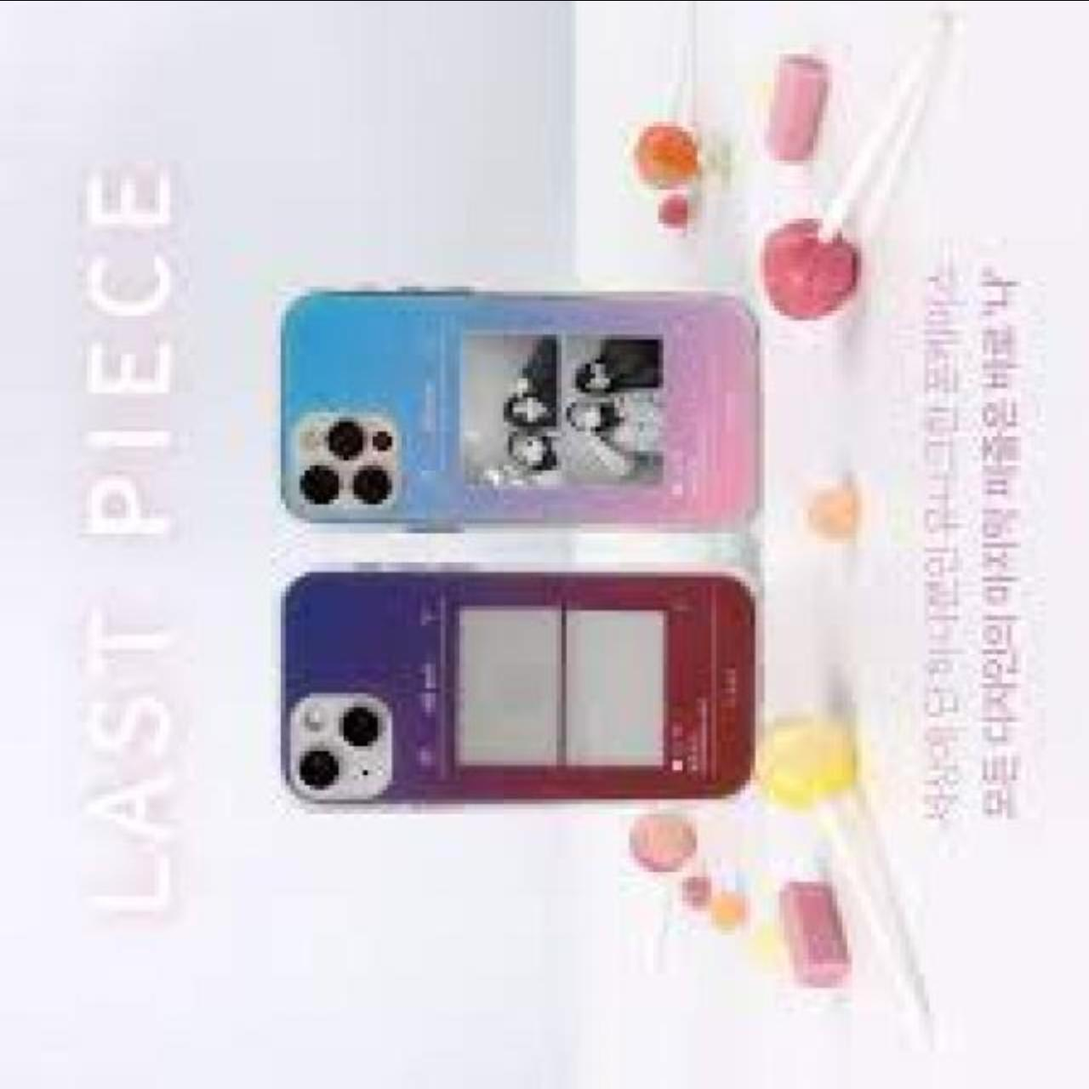phone: (272, 562, 766, 813), (271, 288, 759, 524)
